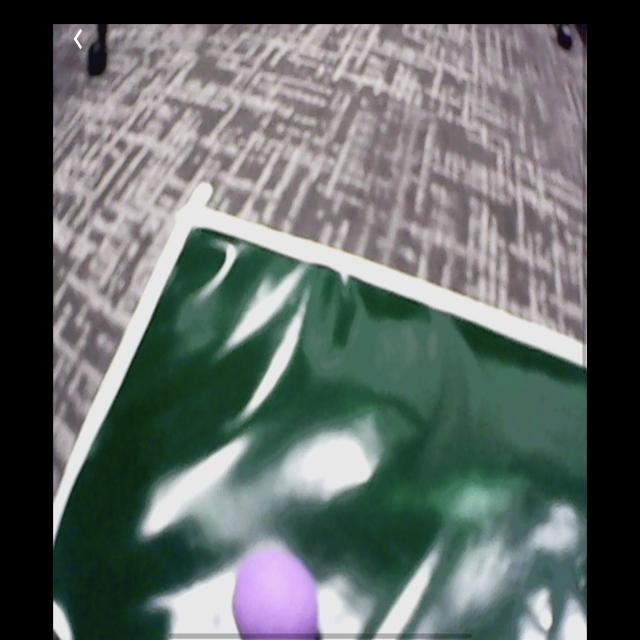ball: (232, 547, 320, 640)
